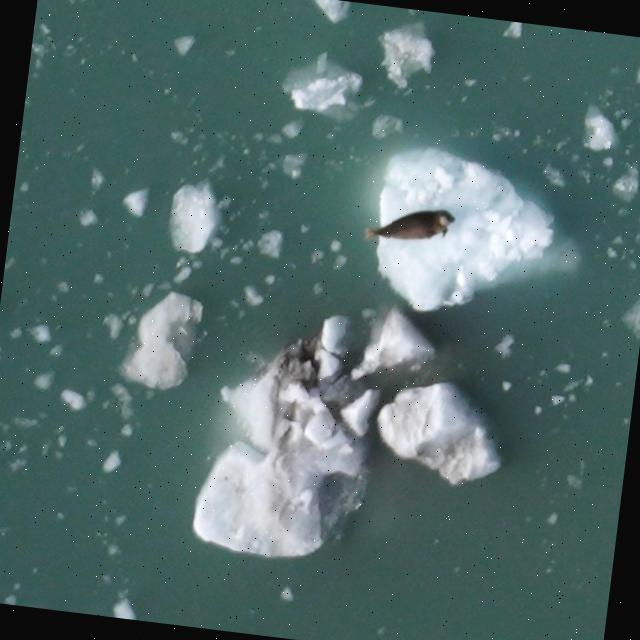seal: (357, 194, 462, 254)
